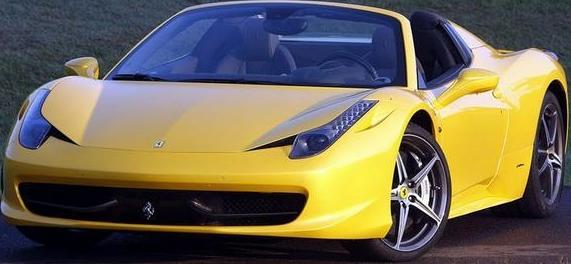front_view: (11, 83, 392, 250)
headlight: (276, 103, 384, 166)
side_glass: (383, 12, 509, 101)
